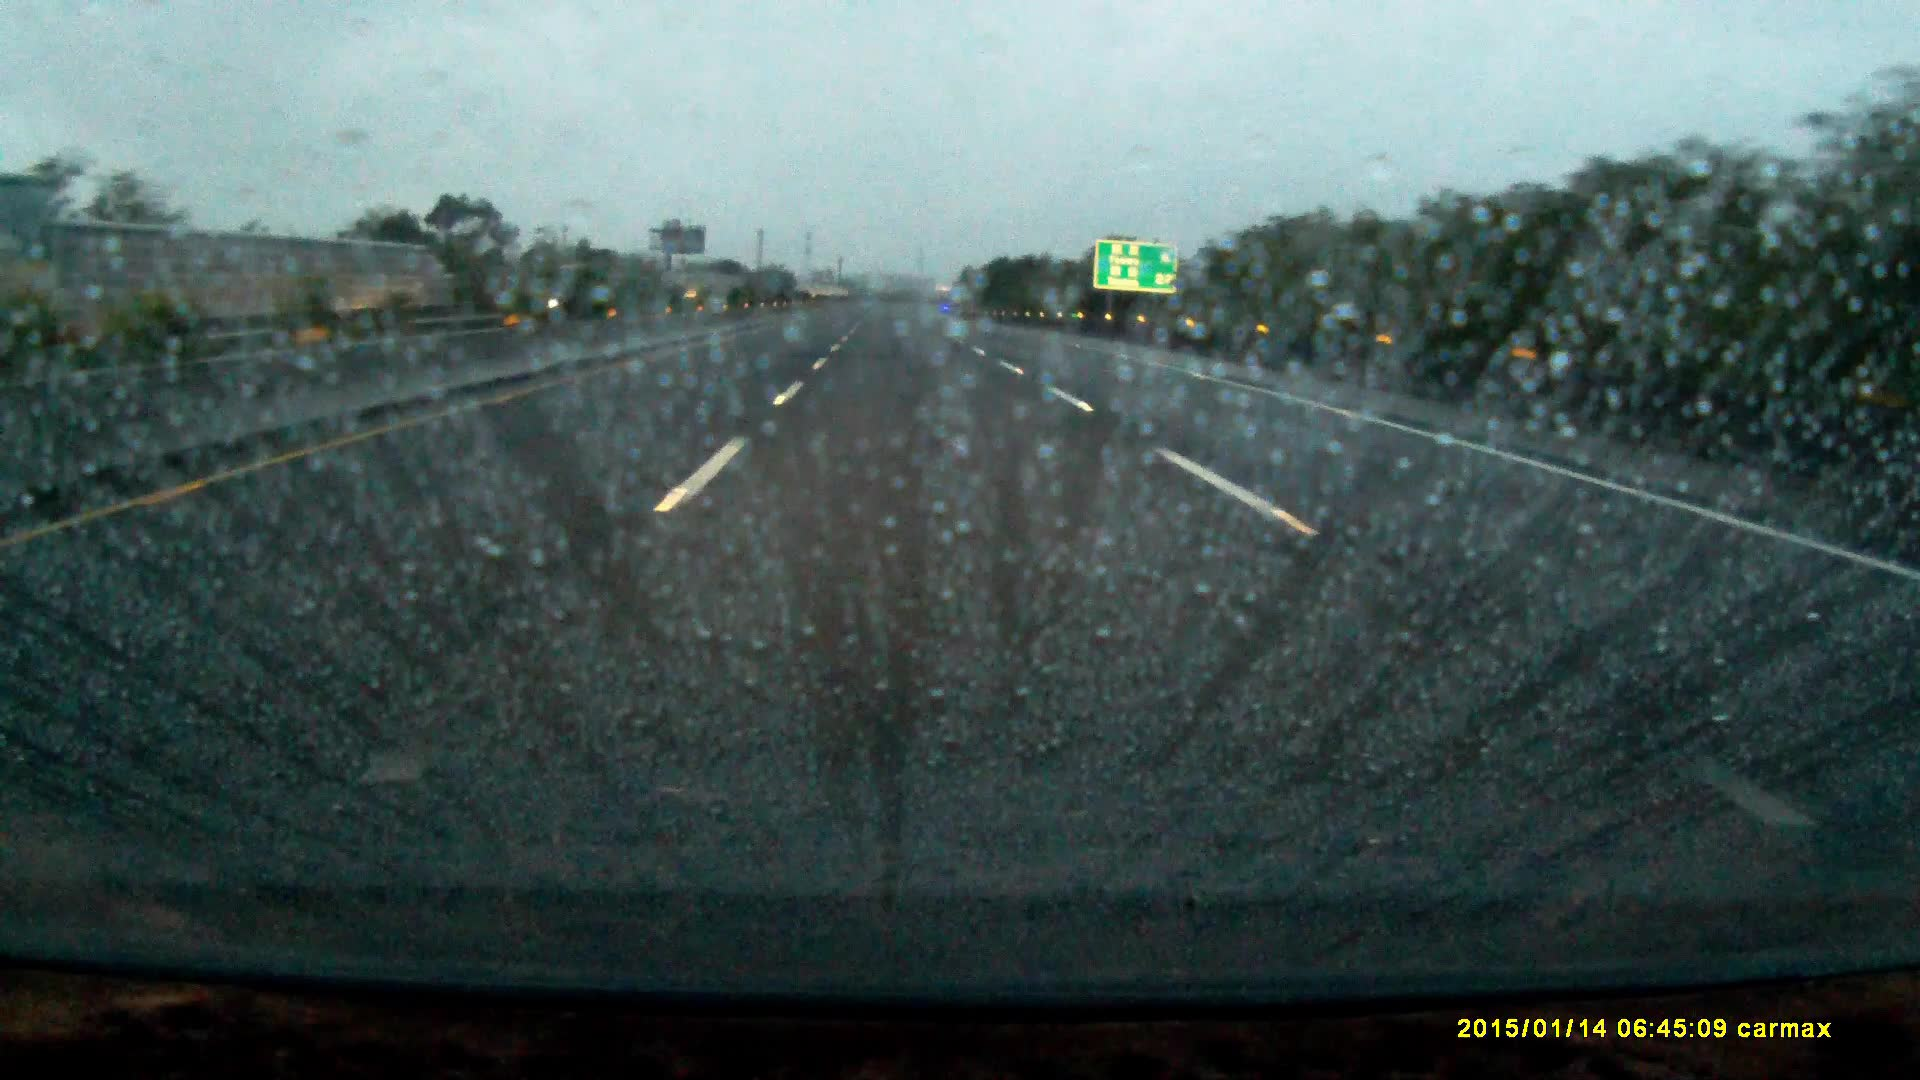vehicle: (550, 262, 632, 309)
